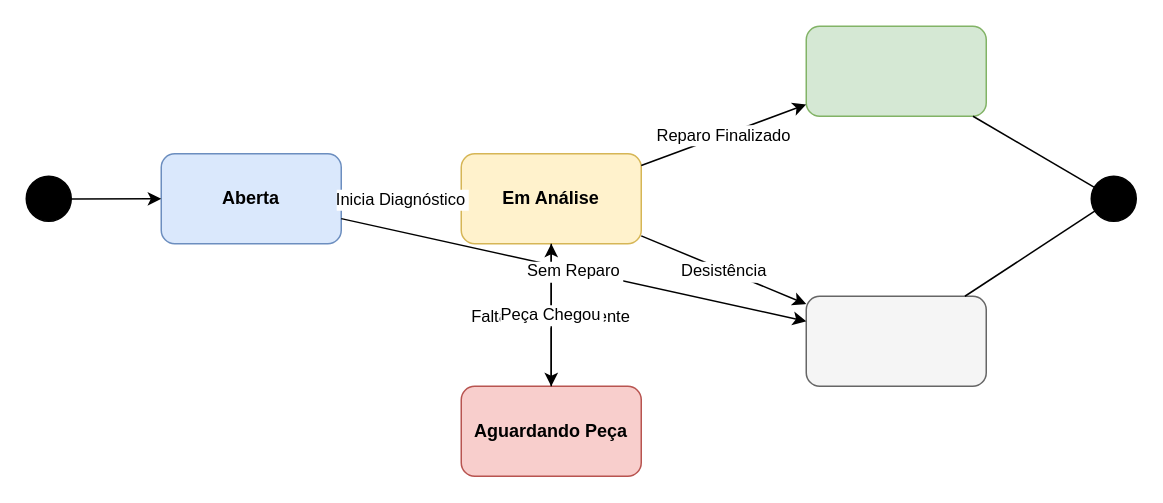
Some shapes in this 1163 by 503 pixel diagram are drawn without their labels. The centre of each missing label's shape, as x and y in pixels:
Cancelada: the point at 895,340
Concluída: the point at 895,70
